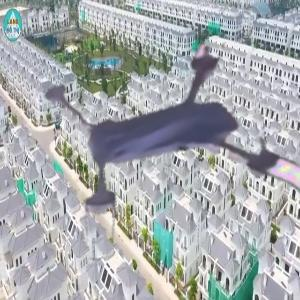drone: (44, 24, 299, 279)
